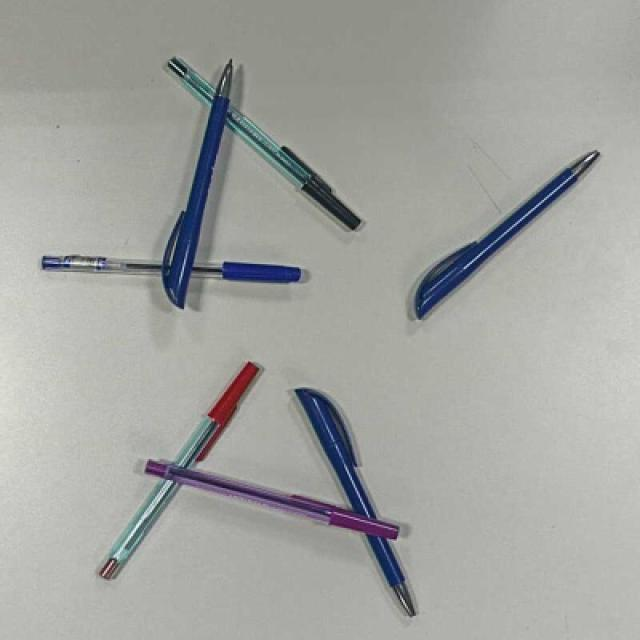caneta: (97, 359, 266, 586), (398, 134, 603, 321), (161, 53, 366, 233), (295, 376, 435, 621), (144, 452, 401, 544), (153, 55, 239, 309), (41, 252, 301, 284)
